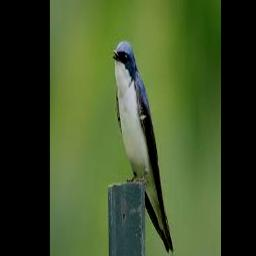Swallow: (111, 41, 174, 254)
